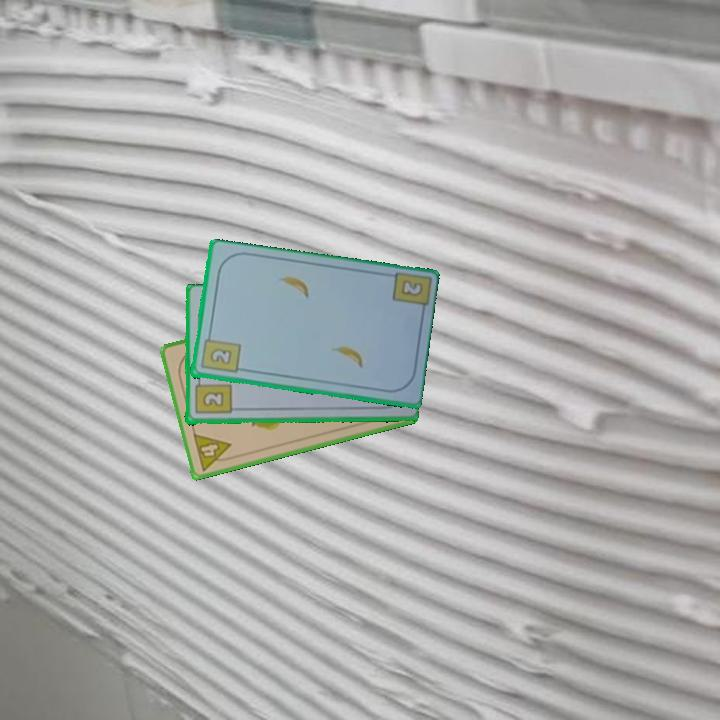2b: (197, 330, 243, 376), (191, 375, 233, 417), (397, 277, 426, 299)
4p: (189, 430, 237, 474)
